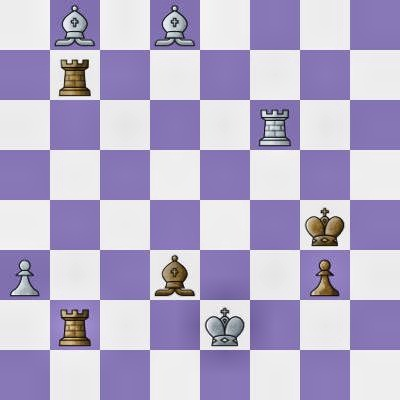black-bishop: (150, 250, 200, 300)
black-king: (300, 200, 350, 250)
black-pawn: (300, 250, 350, 300)
black-rook: (50, 50, 100, 100), (50, 300, 100, 350)
white-bishop: (50, 0, 100, 50), (150, 0, 200, 50)
white-king: (200, 300, 250, 350)
white-pawn: (0, 250, 50, 300)
white-rook: (250, 100, 300, 150)
